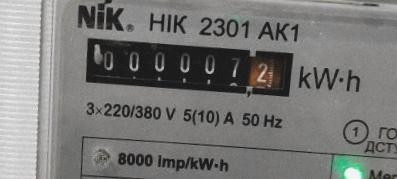0: (100, 46, 116, 71), (177, 50, 193, 74), (152, 49, 167, 73), (202, 51, 217, 75), (126, 49, 141, 72)
2: (254, 60, 269, 84)
7: (228, 53, 242, 78)
screen: (72, 23, 304, 109)
